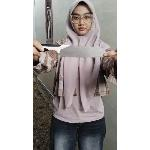Pisau: (35, 39, 112, 66)
